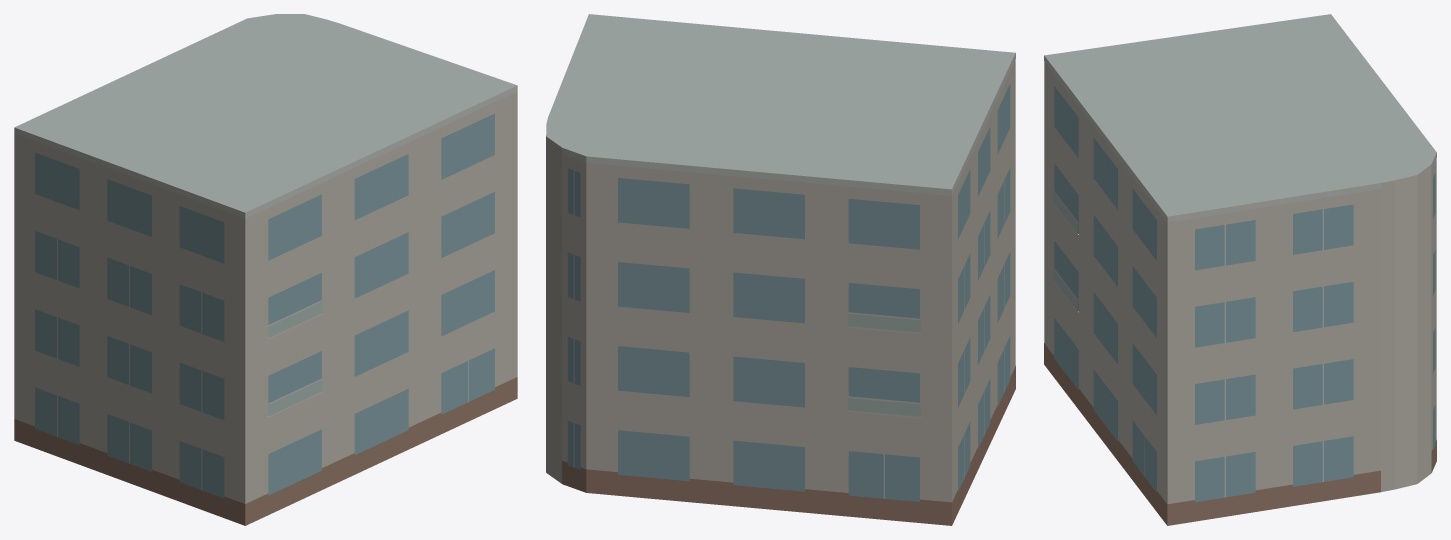
The model's file is survey-upis-32770691.glb.
3 renders of one model, left to right at view 1: azimuth 30°, elevation 25°; view 2: azimuth 150°, elevation 25°; view 3: azimuth 270°, elevation 25°, orthographic. The views are drawn at different scales.
Parts seen in each view (by area): view 1: survey-upis-32770691.tmp; view 2: survey-upis-32770691.tmp; view 3: survey-upis-32770691.tmp.
Part boxes in pixels (x1,y1,x2,y2): survey-upis-32770691.tmp: (14, 14, 517, 525); survey-upis-32770691.tmp: (546, 14, 1015, 525); survey-upis-32770691.tmp: (1044, 14, 1436, 525).
Size of the model in its own units: 18.14 by 12.9 by 14.85.
